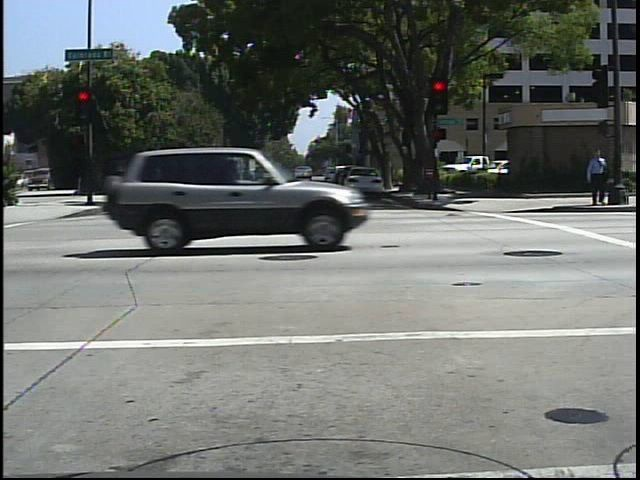person: (141, 155, 174, 219), (586, 143, 608, 209)
